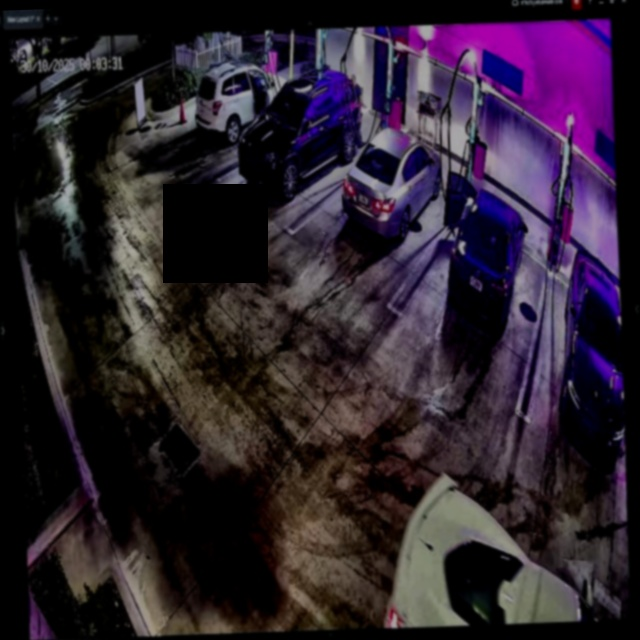Car: (233, 65, 363, 199), (443, 166, 531, 333), (340, 127, 443, 240), (194, 59, 289, 144)
